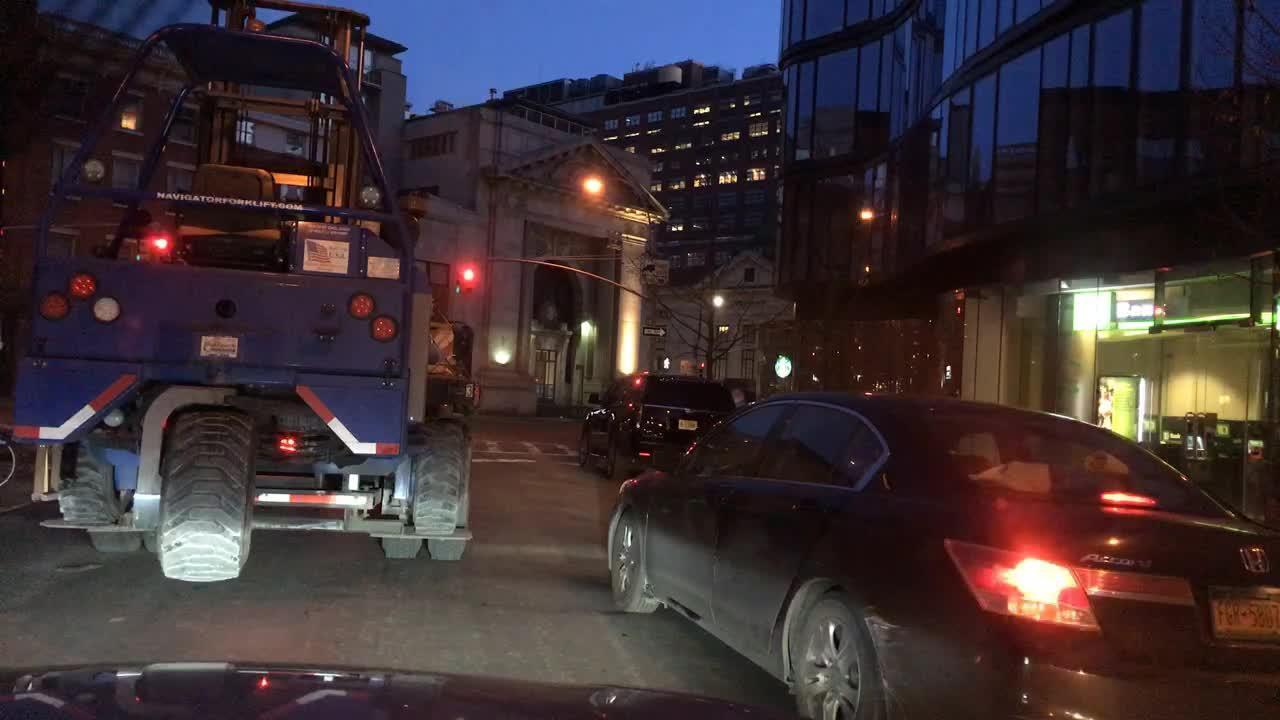Honda: (1236, 537, 1280, 581)
